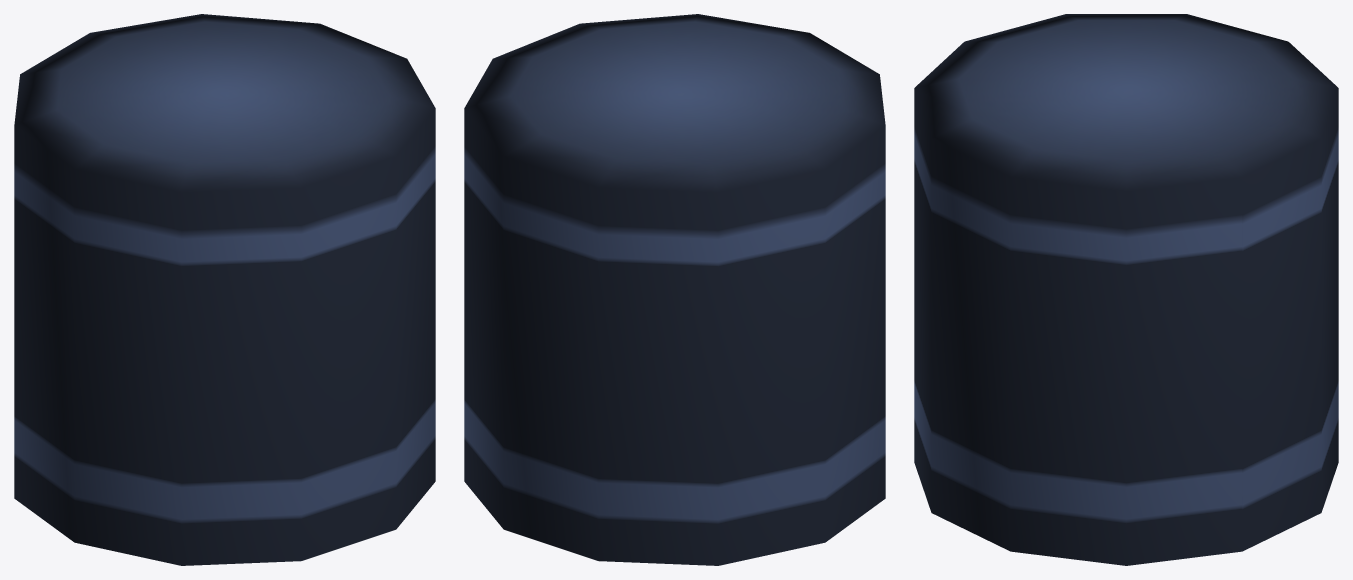
File: RollaBolla.fbx
The picture shows the model from 3 angles, left to right: view 1: azimuth 30°, elevation 25°; view 2: azimuth 150°, elevation 25°; view 3: azimuth 270°, elevation 25°; orthographic projection.
Visible parts, largest first — view 1: RollaBolla; view 2: RollaBolla; view 3: RollaBolla.
Boxes of the visible parts, x1,y1,x2,y2 form: RollaBolla: [14, 14, 435, 565]; RollaBolla: [464, 14, 885, 565]; RollaBolla: [914, 14, 1338, 565].
Bounding box in the file's own units: 4.88 × 5.09 × 4.93.
